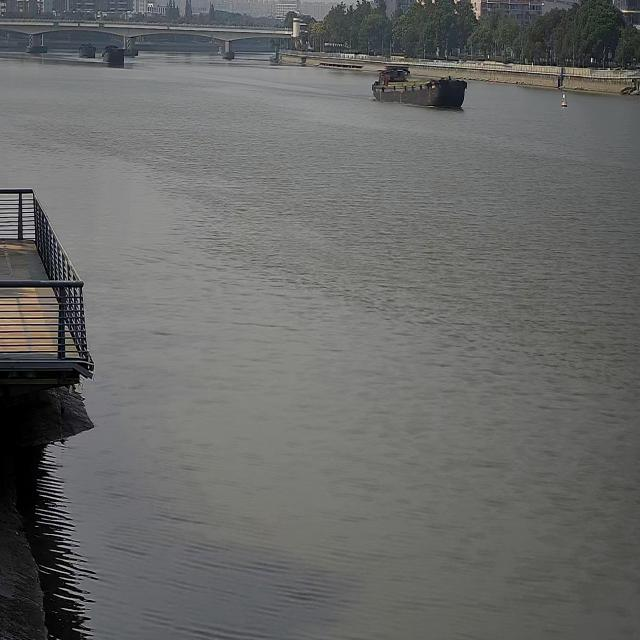ship: (372, 67, 466, 107), (101, 44, 124, 63), (78, 41, 95, 57), (217, 46, 222, 53)
